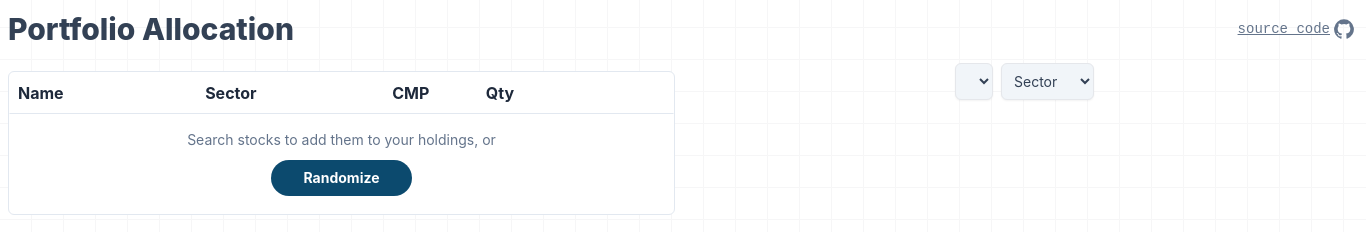
Scenario: <Portfolio /> › should change the selected category column title
Expected: the text "sector" is shown, top-left (205, 83), bottom-right (257, 103)
Select "country" in the dropdown with test id "category-selection": x=1048, y=82 top-left (1001, 63), bottom-right (1094, 100)
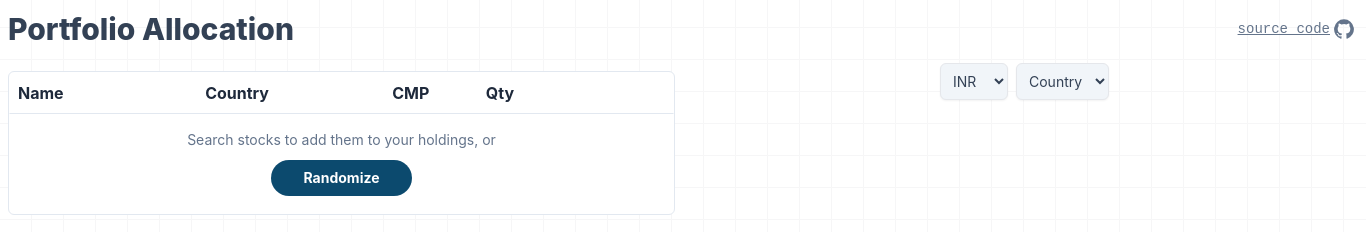
Expected: the text "country" is shown, top-left (205, 83), bottom-right (269, 103)
